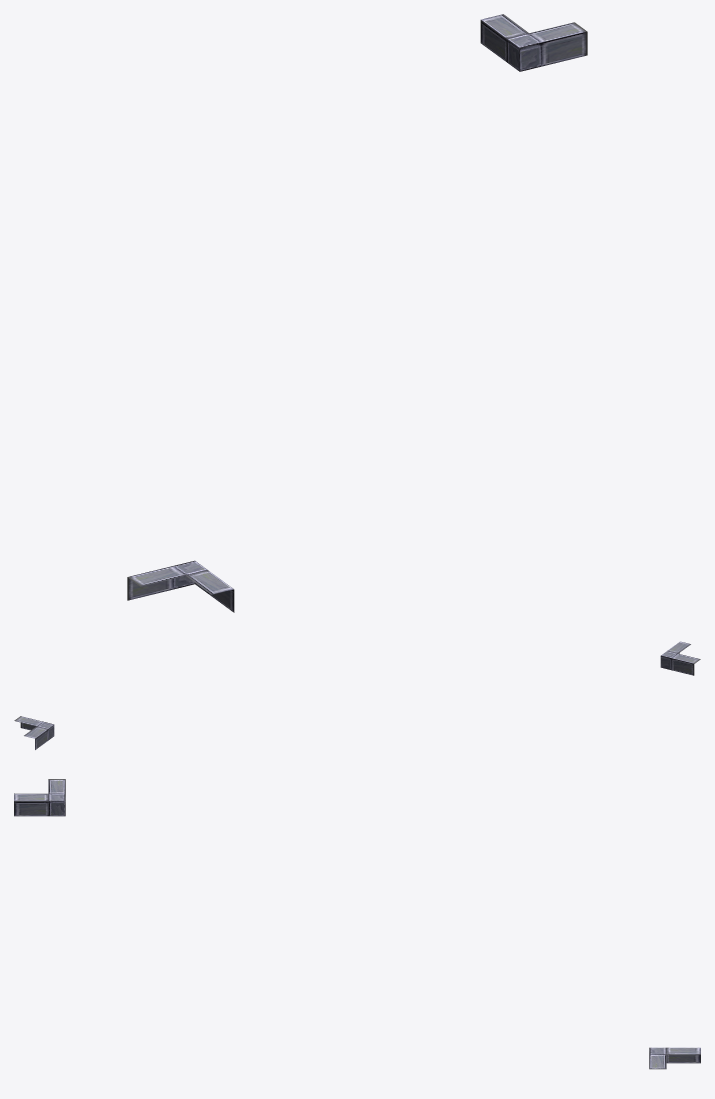
Rendered from Dungeon_plith_corner2diagonal.FBX.
3 views of the same model, one above another, from view 1: azimuth 30°, elevation 25°; view 2: azimuth 150°, elevation 25°; view 3: azimuth 270°, elevation 25° (orthographic). The views are drawn at different scales.
Parts seen in each view (by area): view 1: Object023; view 2: Object023; view 3: Object023.
Part boxes in pixels (x1=…): Object023: x1=127, y1=14, x2=587, y2=612; Object023: x1=14, y1=641, x2=700, y2=749; Object023: x1=14, y1=779, x2=700, y2=1069.
Size of the model in its own units: 1000 by 25 by 1000.
1 material, 1 textured.
